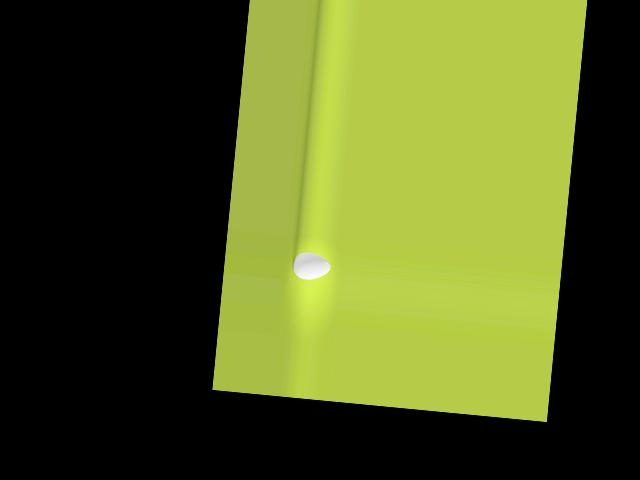egg: (292, 250, 332, 281)
